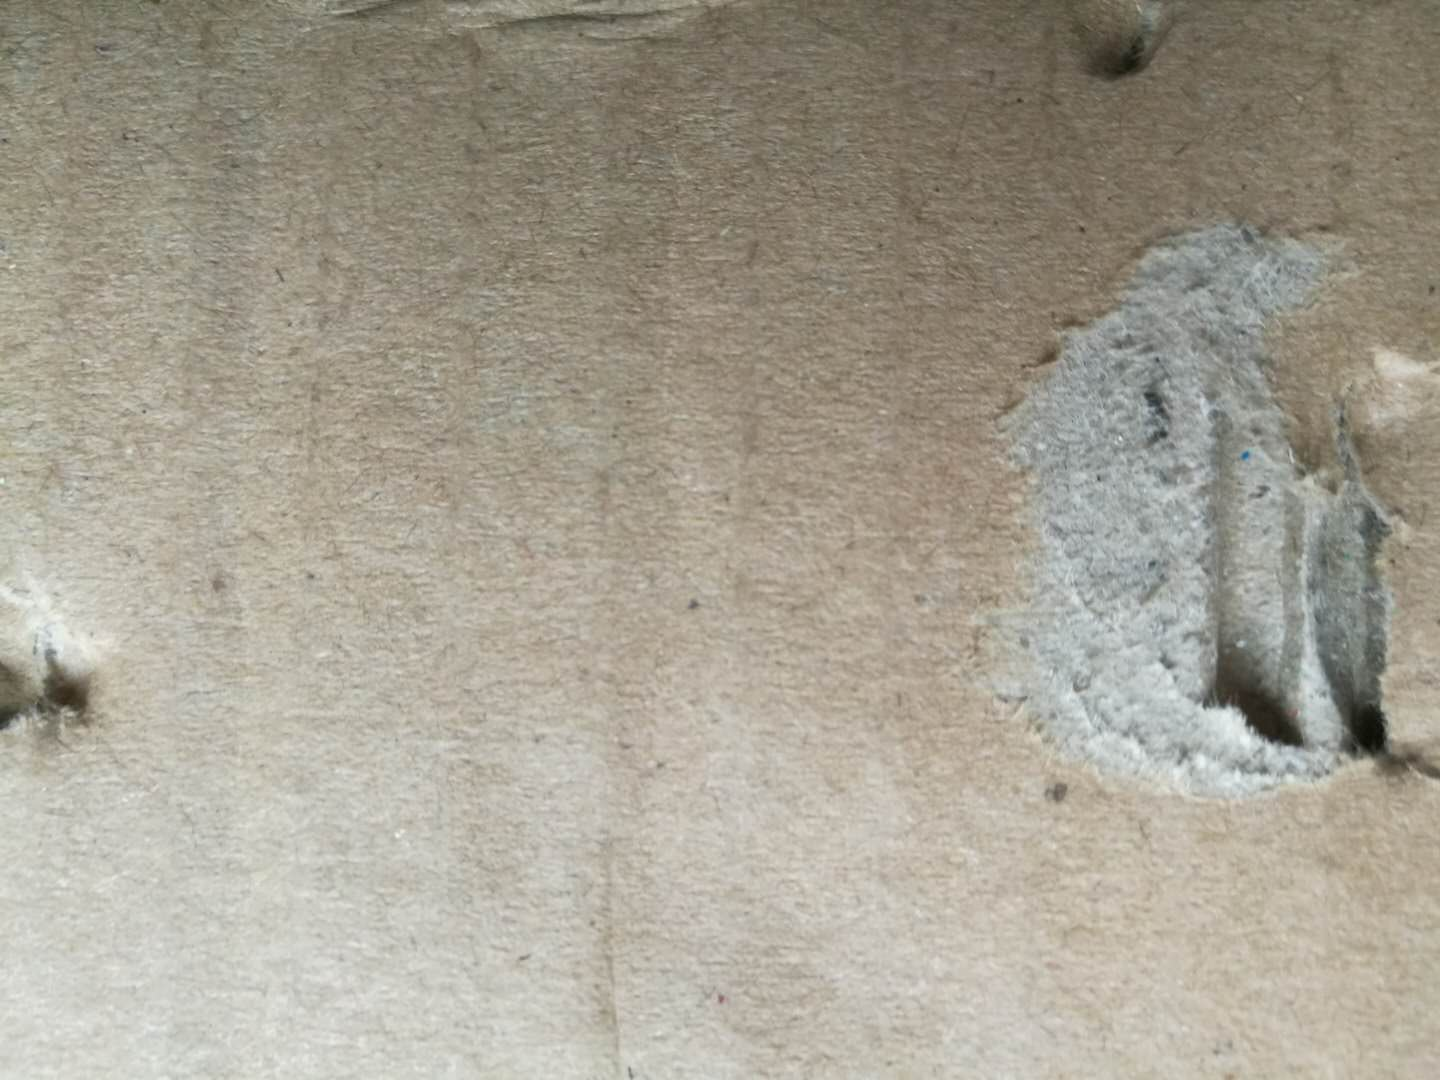defect: (963, 193, 1440, 851), (1, 539, 150, 798), (300, 1, 756, 59), (1034, 1, 1237, 106)
